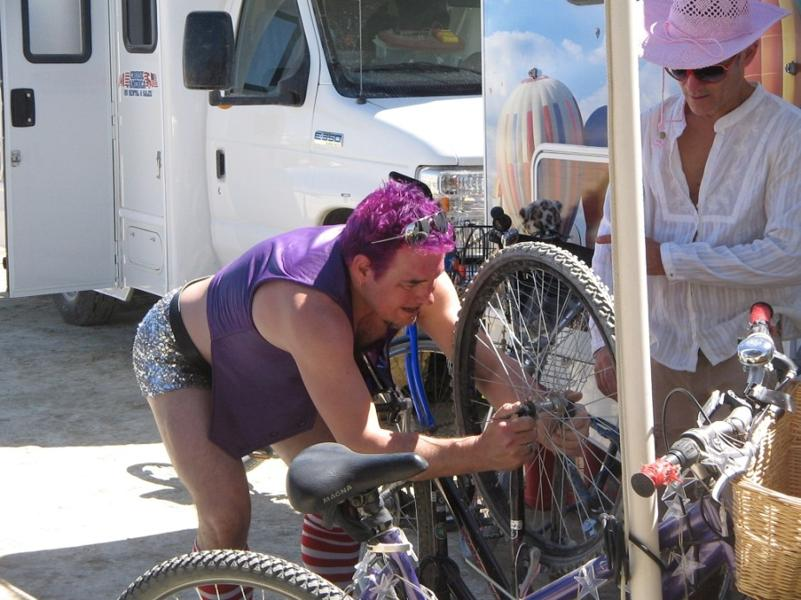person: (132, 182, 590, 597)
